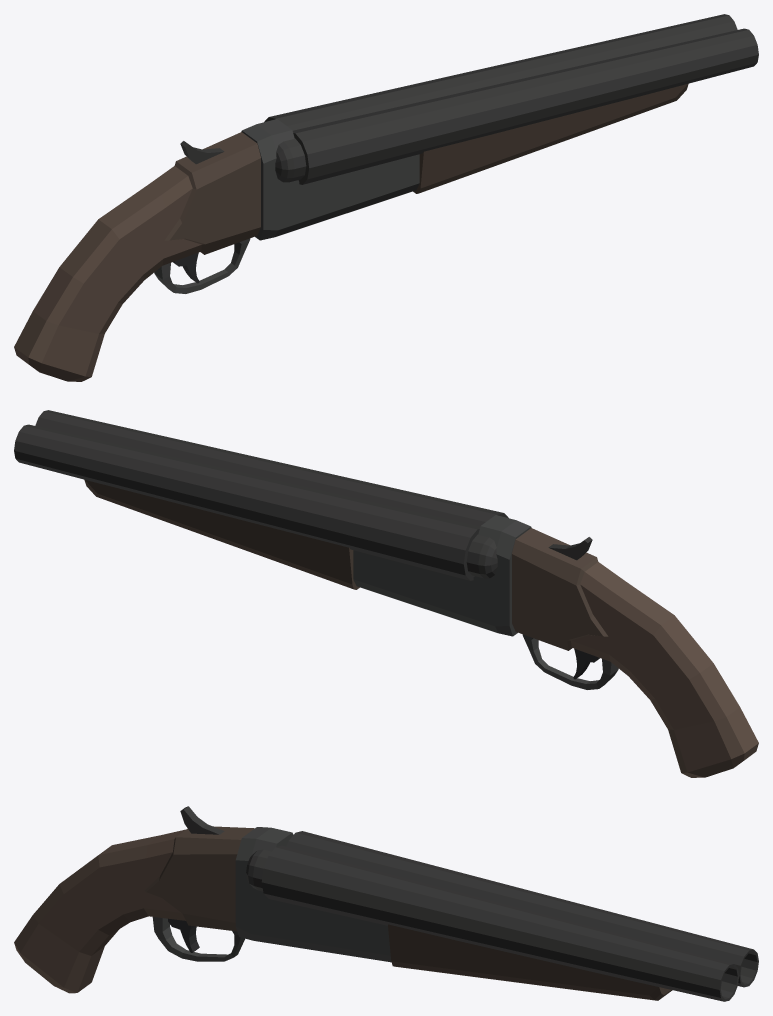
File: sawedoff.gltf
The picture shows the model from 3 angles, top to bottom: view 1: azimuth 30°, elevation 25°; view 2: azimuth 150°, elevation 25°; view 3: azimuth 330°, elevation 25°; orthographic projection.
Visible parts, largest first — view 1: sawedoff; view 2: sawedoff; view 3: sawedoff.
Boxes of the visible parts, x1,y1,x2,y2 form: sawedoff: (14,14,758,381); sawedoff: (14,410,758,777); sawedoff: (14,806,758,1001).
Bounding box in the file's own units: 0.5532 × 0.153 × 0.0634.
